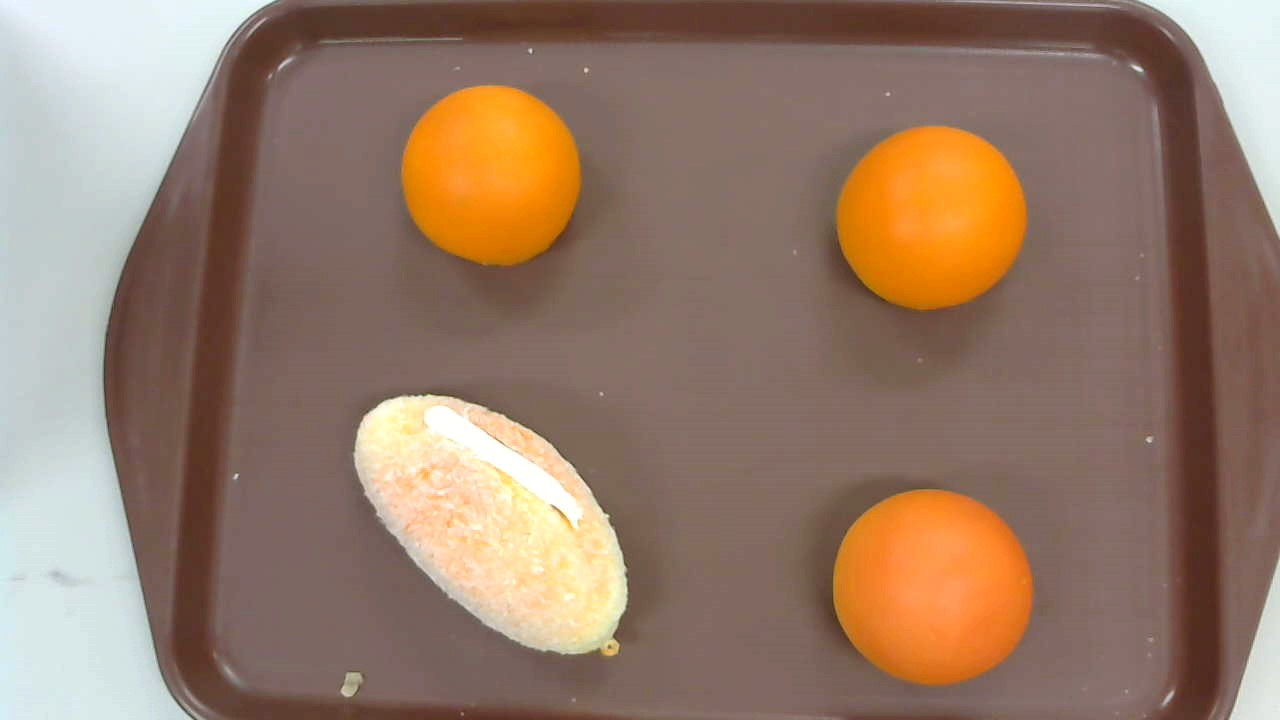bun: (831, 488, 1034, 688), (835, 123, 1028, 313), (400, 84, 583, 266)
coconut: (353, 394, 626, 657)
